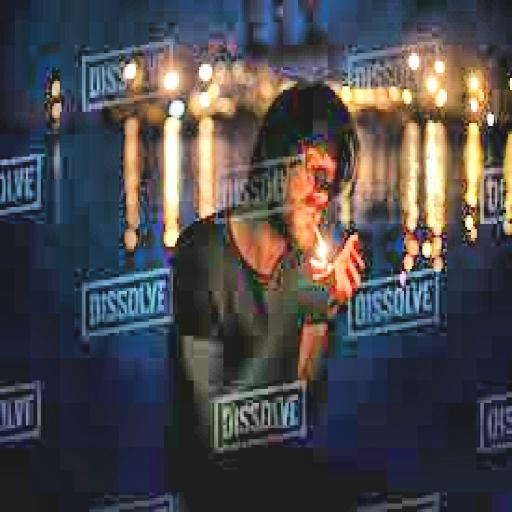fire: (312, 235, 328, 257)
